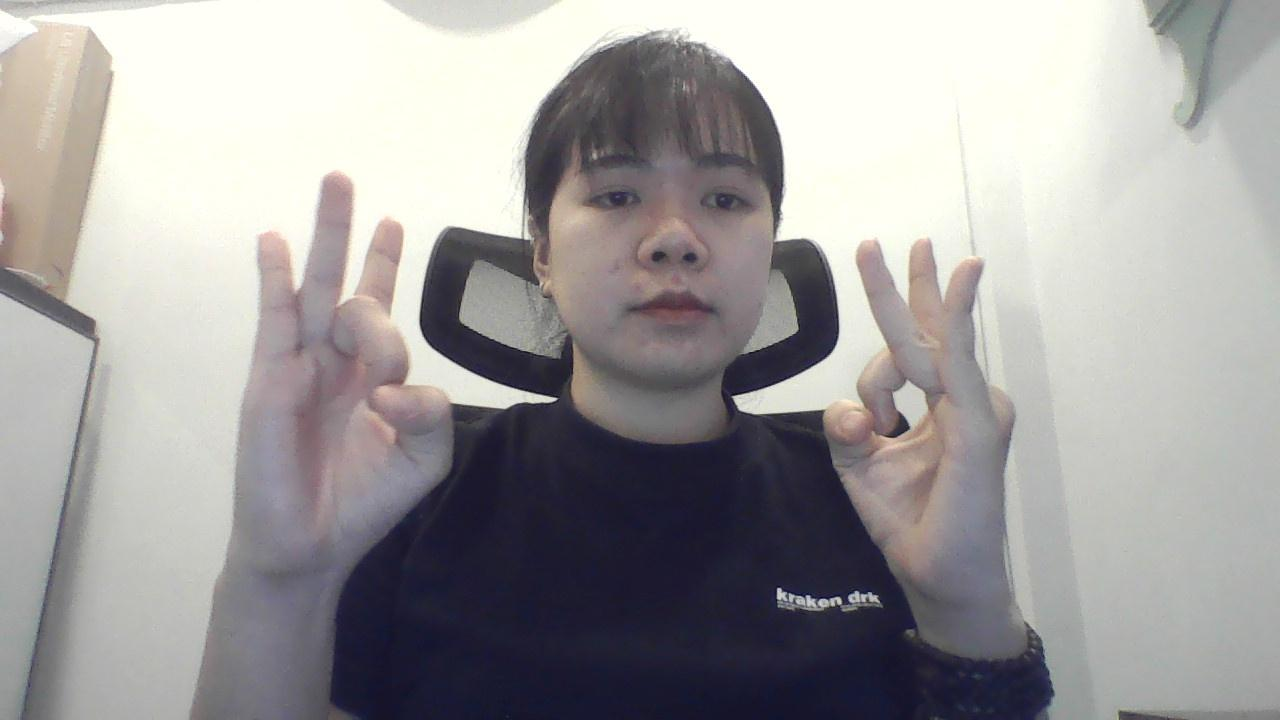H: (222, 156, 473, 590), (809, 224, 1034, 636)
